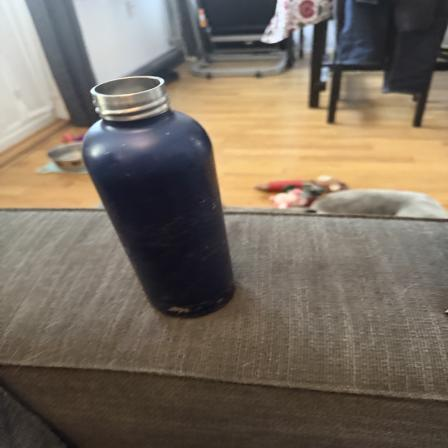blue_bottle: (75, 74, 237, 320)
